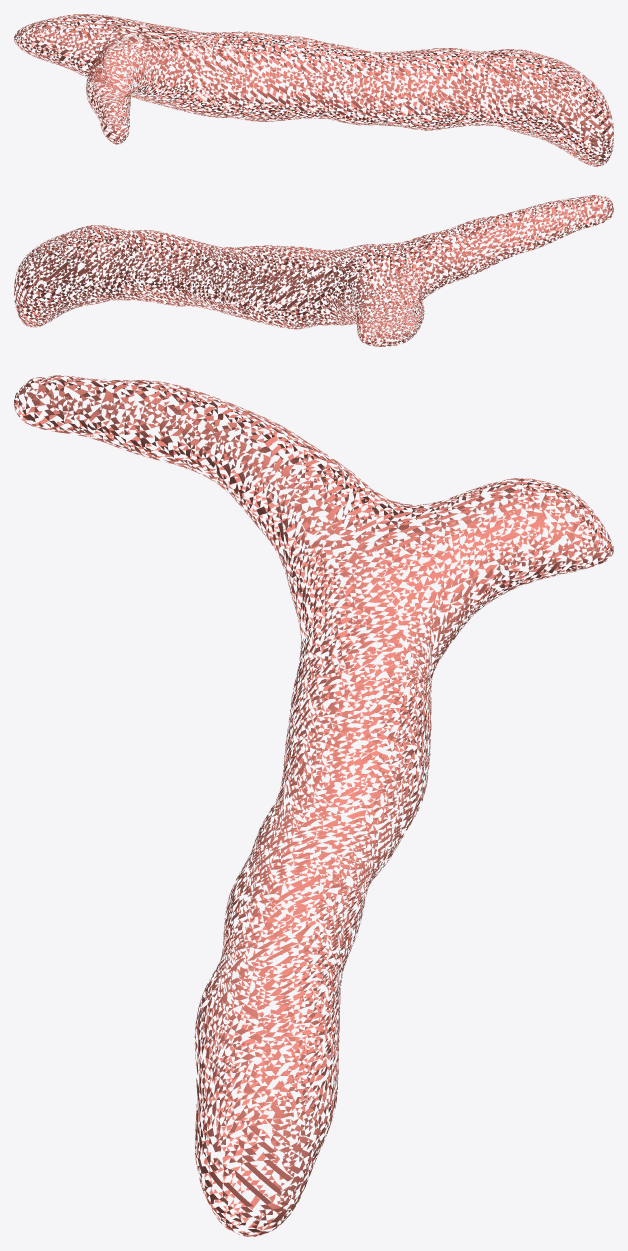
Rendered from diseased.glb.
3 views of the same model, one above another, from view 1: azimuth 30°, elevation 25°; view 2: azimuth 150°, elevation 25°; view 3: azimuth 270°, elevation 25° (orthographic). The views are drawn at different scales.
Bounding box in the file's own units: 113 × 44.72 × 59.4.
